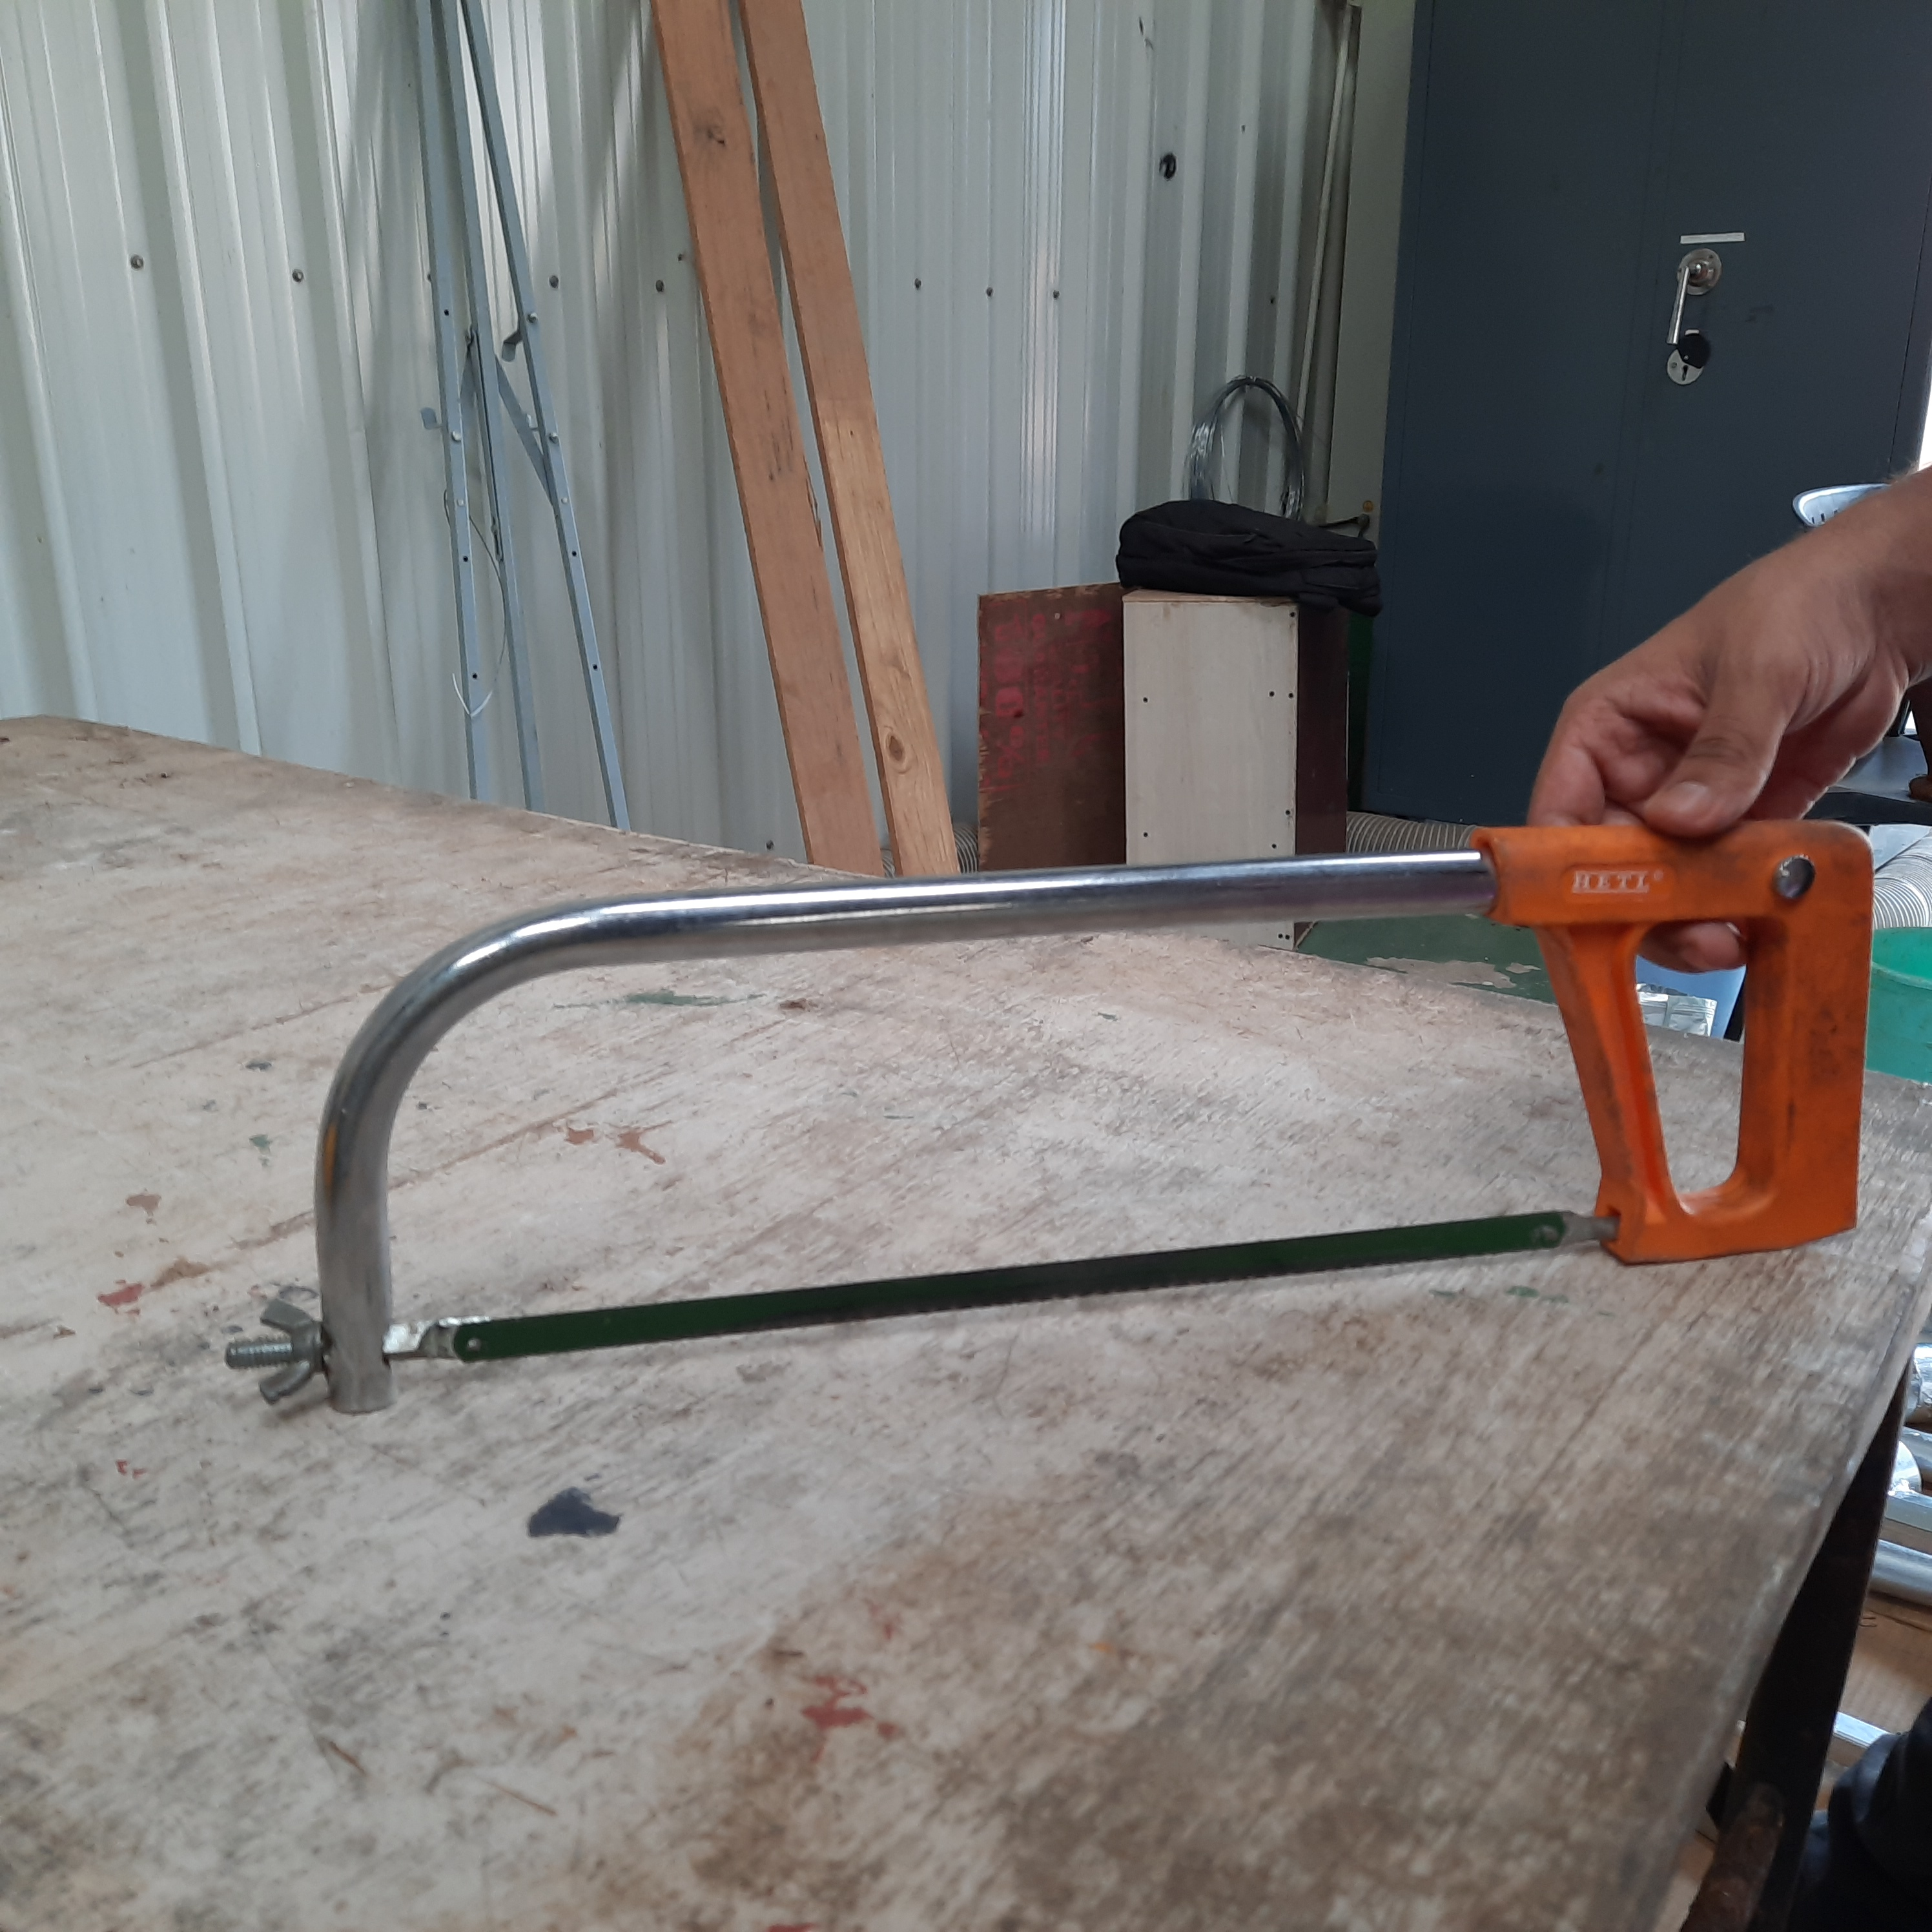Hexaframe: (218, 773, 1911, 1458)
